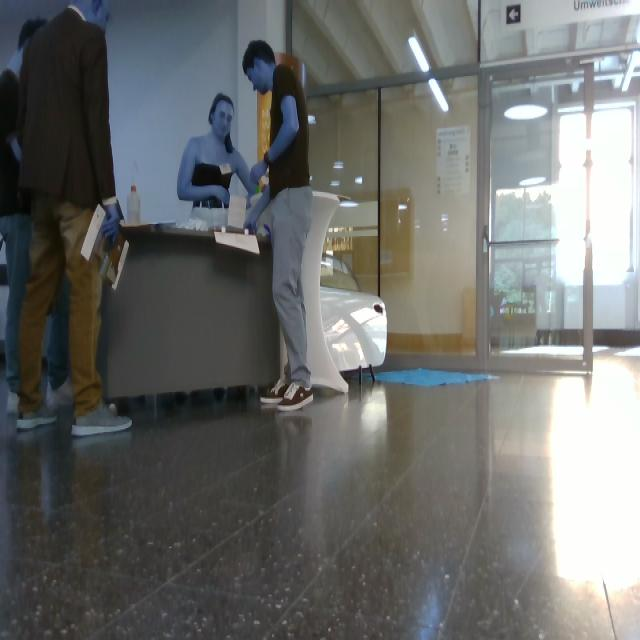desk: (104, 226, 280, 398)
door: (484, 70, 594, 372), (381, 78, 477, 354)
light bulb: (409, 37, 430, 72), (505, 105, 548, 121), (623, 52, 640, 92), (429, 78, 448, 112)
person: (17, 1, 132, 434), (243, 41, 313, 410), (1, 18, 47, 413), (179, 94, 258, 208)
tiled floor: (1, 357, 640, 640)
